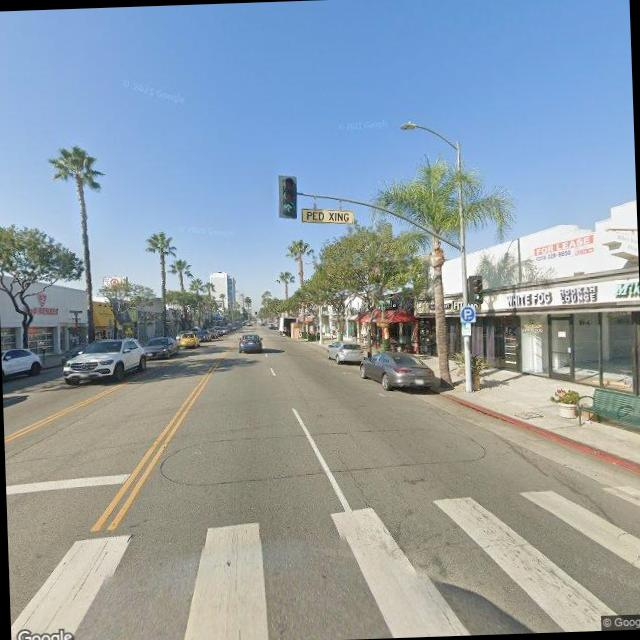crack: (5, 437, 148, 466), (334, 452, 369, 508)
